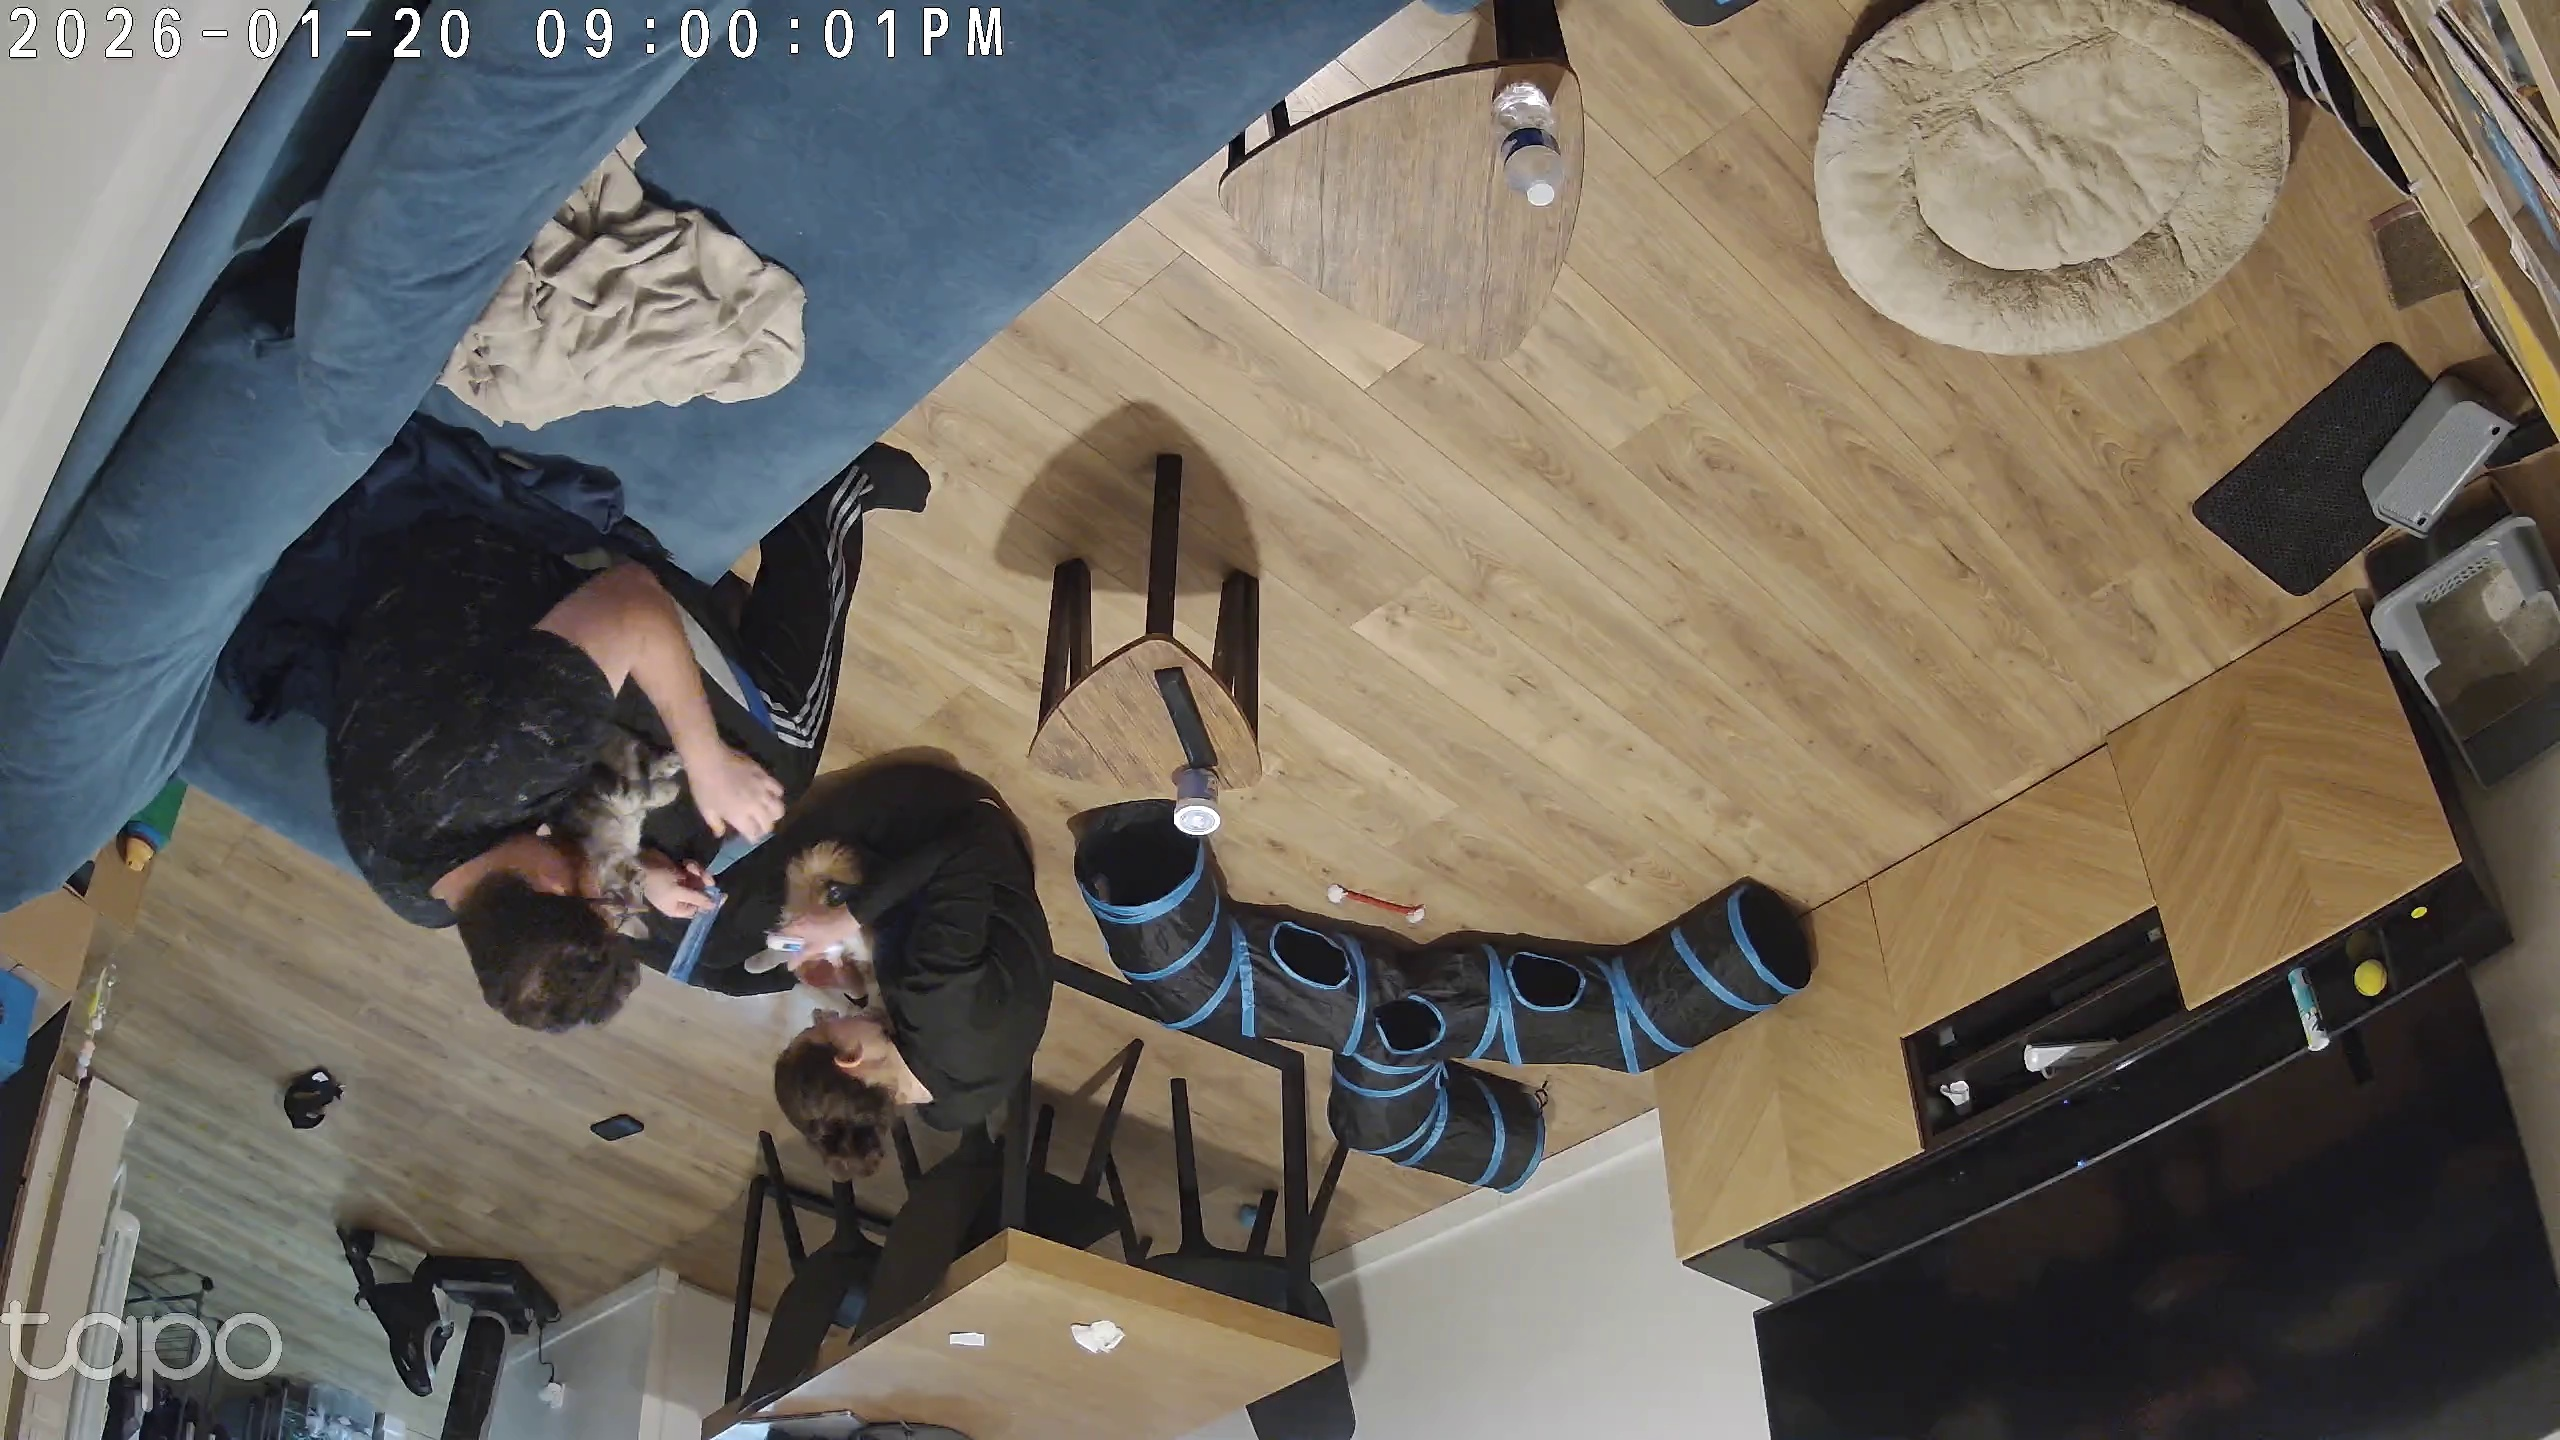Nala: (564, 707, 710, 942)
Simba: (738, 821, 923, 1036)
